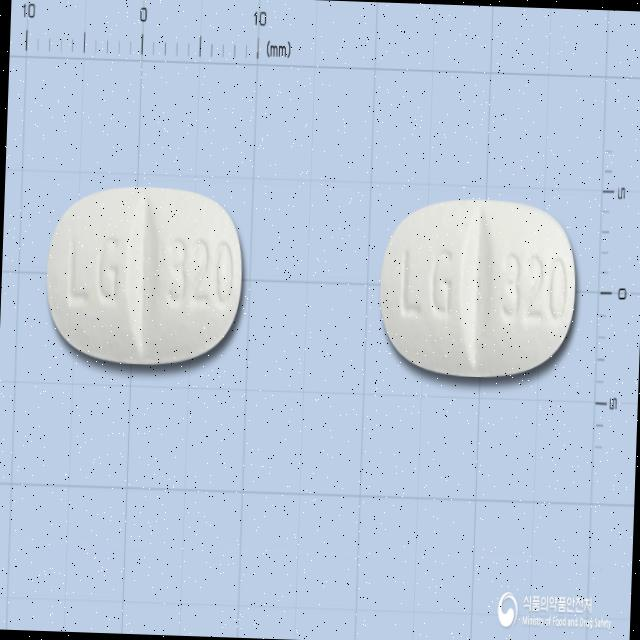Factive: (43, 180, 245, 368), (376, 193, 578, 381)
